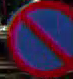No Stopping: (5, 0, 72, 78)
